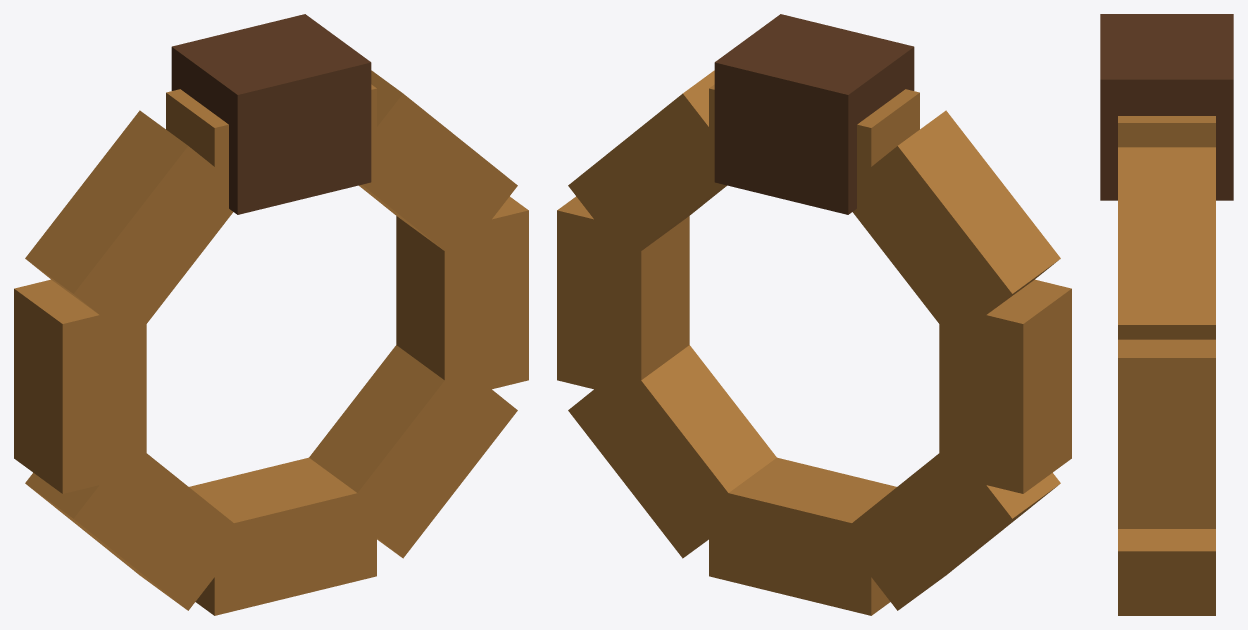
File: copper_ring.glb
3 renders of one model, left to right at view 1: azimuth 30°, elevation 25°; view 2: azimuth 150°, elevation 25°; view 3: azimuth 270°, elevation 25°, orthographic.
Parts seen in each view (by area): view 1: copper_ring; view 2: copper_ring; view 3: copper_ring.
Part boxes in pixels (x1,y1,x2,y2): copper_ring: [14, 14, 528, 615]; copper_ring: [557, 14, 1071, 615]; copper_ring: [1100, 14, 1233, 615].
Size of the model in its own units: 0.122 by 0.131 by 0.03.
